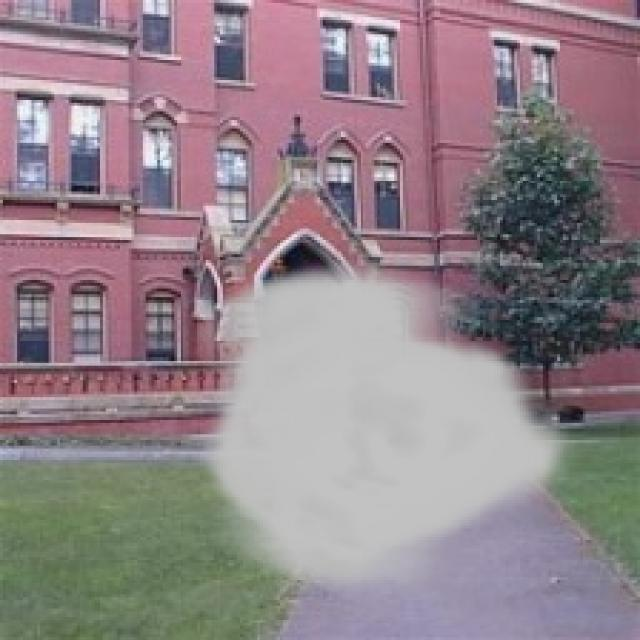smoke: (197, 260, 574, 603)
